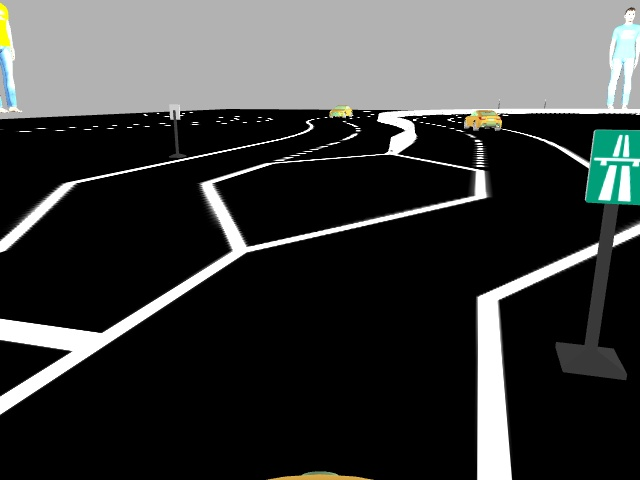HighwayEntrance: (583, 126, 639, 207)
